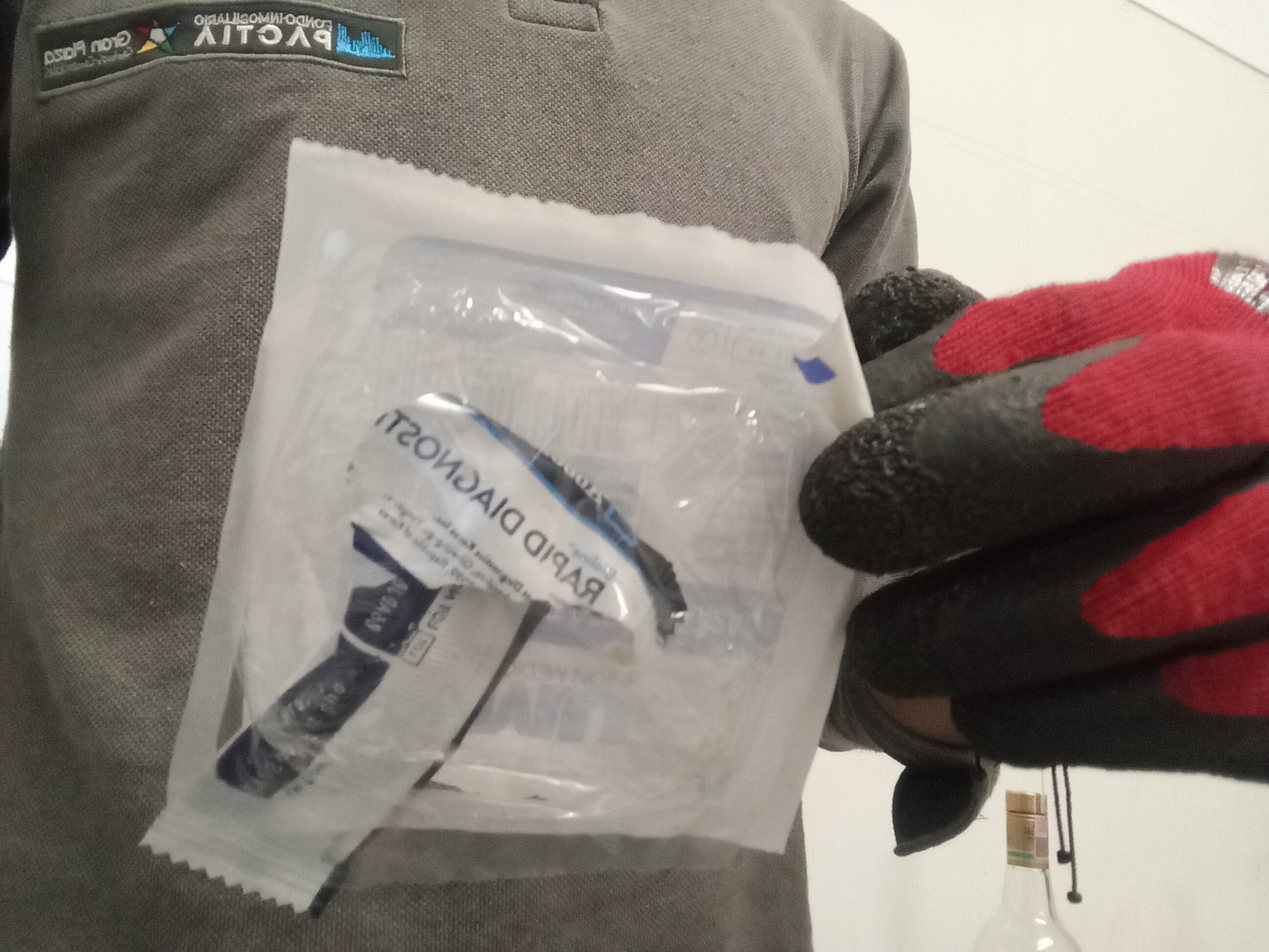Ordinario: (142, 134, 879, 917)
